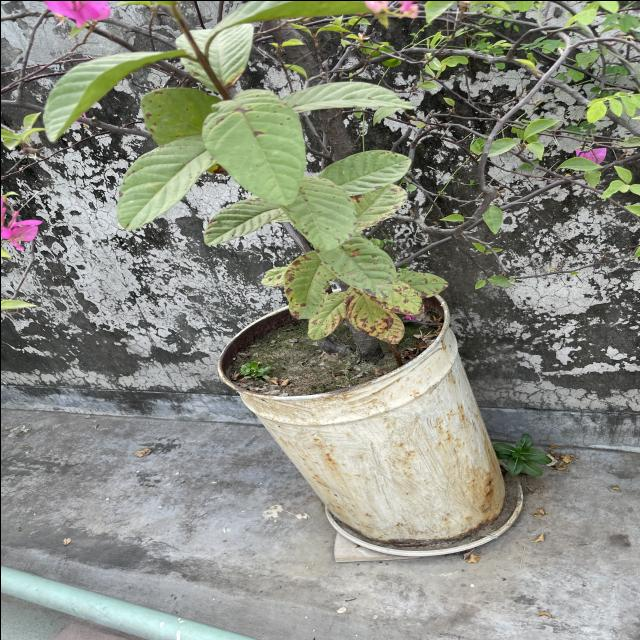Breeding Place: (213, 312, 503, 544)
